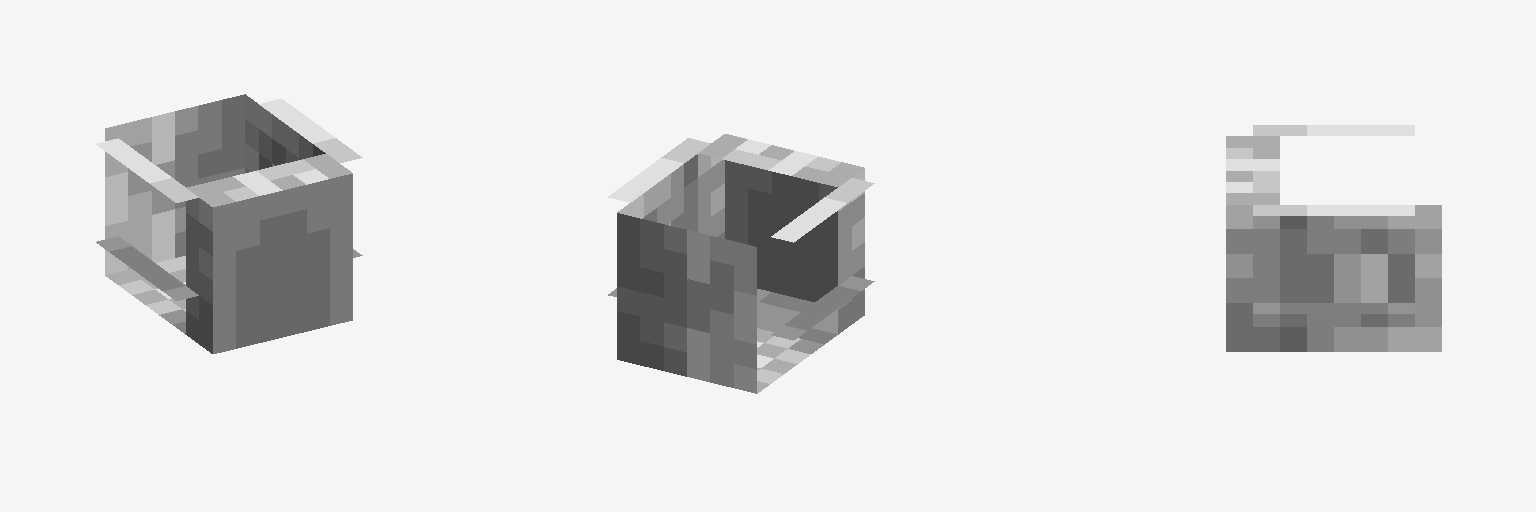
3 views of the same model, side by side, from view 1: azimuth 30°, elevation 25°; view 2: azimuth 150°, elevation 25°; view 3: azimuth 270°, elevation 25° (orthographic).
Visible parts, largest first — view 1: body_Cube.001, wing.right_Cube.006, wing.left_Cube.005; view 2: body_Cube.001, wing.right_Cube.006, wing.left_Cube.005; view 3: body_Cube.001, wing.left_Cube.005, wing.right_Cube.006.
Part boxes in pixels (x1,y1,x2,y2): body_Cube.001: (105,94,352,353); wing.right_Cube.006: (96,138,198,300); wing.left_Cube.005: (259,99,362,257); body_Cube.001: (617,134,864,393); wing.right_Cube.006: (771,178,874,340); wing.left_Cube.005: (608,138,710,296); body_Cube.001: (1226,136,1441,351); wing.left_Cube.005: (1253,205,1414,313); wing.right_Cube.006: (1253,125,1414,135).
Bounding box in the file's own units: 1.59 × 2.99 × 2.4.
Materials: 1 (1 with a texture image).